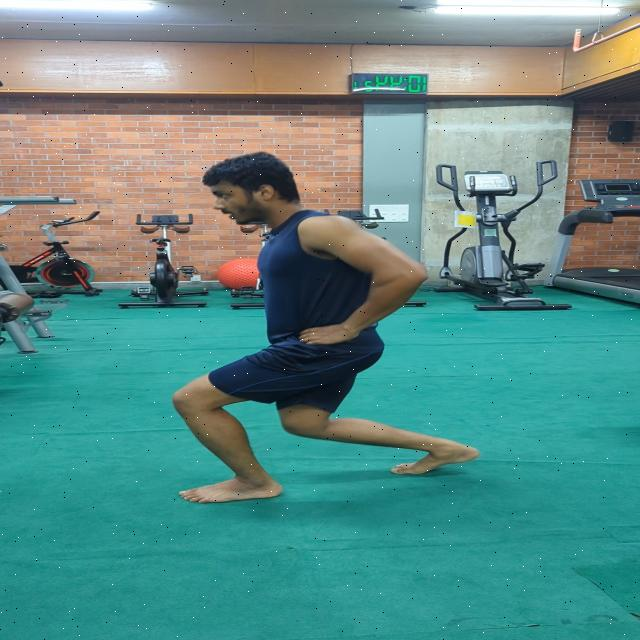Normal_Lunges: (168, 147, 482, 512)
